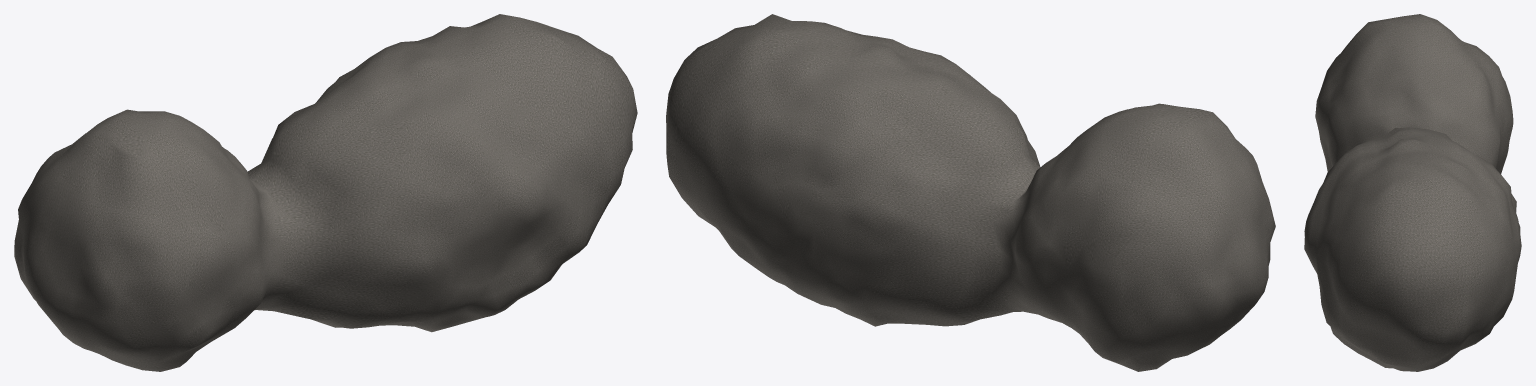
3 renders of one model, left to right at view 1: azimuth 30°, elevation 25°; view 2: azimuth 150°, elevation 25°; view 3: azimuth 270°, elevation 25°, orthographic. The views are drawn at different scales.
Parts seen in each view (by area): view 1: Asteroid 8567 1996 HW1; view 2: Asteroid 8567 1996 HW1; view 3: Asteroid 8567 1996 HW1.
Part boxes in pixels (x1=…): Asteroid 8567 1996 HW1: x1=14, y1=14, x2=637, y2=371; Asteroid 8567 1996 HW1: x1=666, y1=14, x2=1275, y2=371; Asteroid 8567 1996 HW1: x1=1304, y1=14, x2=1521, y2=371.
Size of the model in its own units: 3780 by 1640 by 1493.
1 material, 1 textured.
